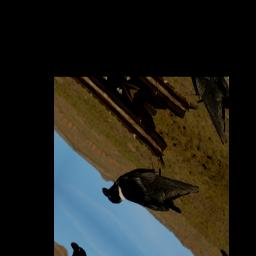Crow: (98, 128, 201, 254)
